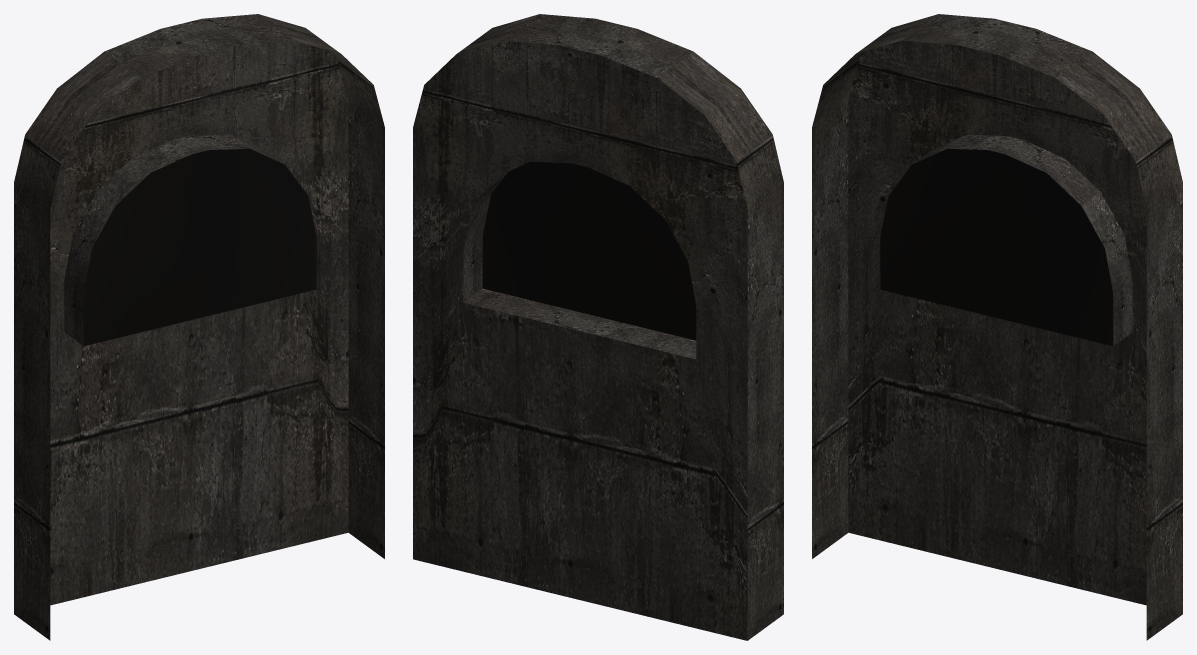
Rendered from TrainTunel.fbx.
3 views of the same model, side by side, from view 1: azimuth 30°, elevation 25°; view 2: azimuth 150°, elevation 25°; view 3: azimuth 330°, elevation 25° (orthographic).
Visible parts, largest first — view 1: TrainTunel; view 2: TrainTunel; view 3: TrainTunel.
Boxes of the visible parts, x1,y1,x2,y2 form: TrainTunel: (14,14,384,640); TrainTunel: (413,14,783,640); TrainTunel: (812,14,1182,640).
Bounding box in the file's own units: 1.78 × 2.79 × 0.3384.
